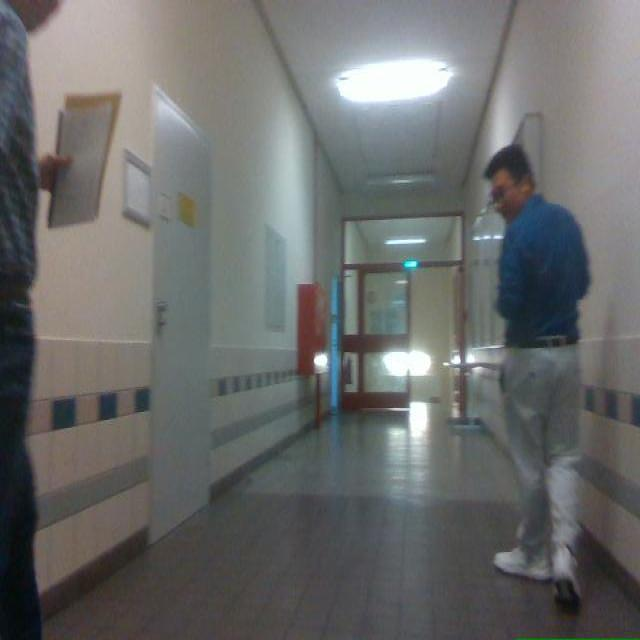humans: (485, 146, 589, 609), (0, 0, 69, 639), (0, 0, 68, 639)
